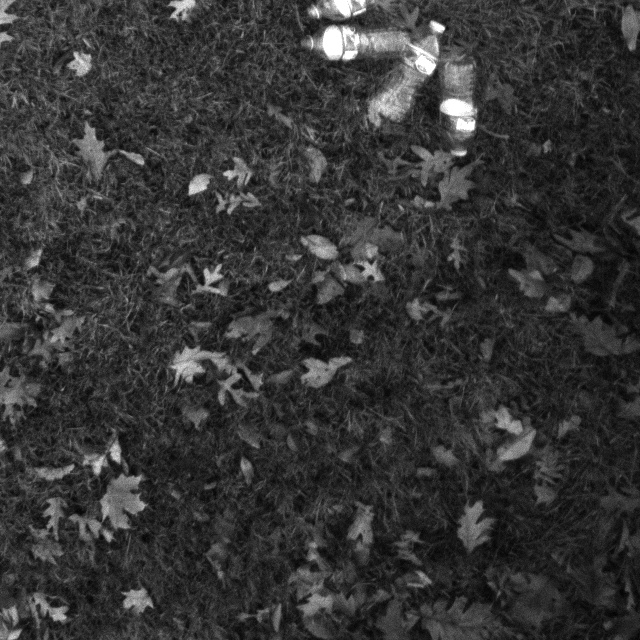bottle: (365, 21, 446, 138), (425, 47, 492, 183), (292, 14, 418, 72)
